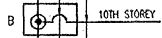Single Phase Tap-Off Unit: (21, 2, 80, 38)
